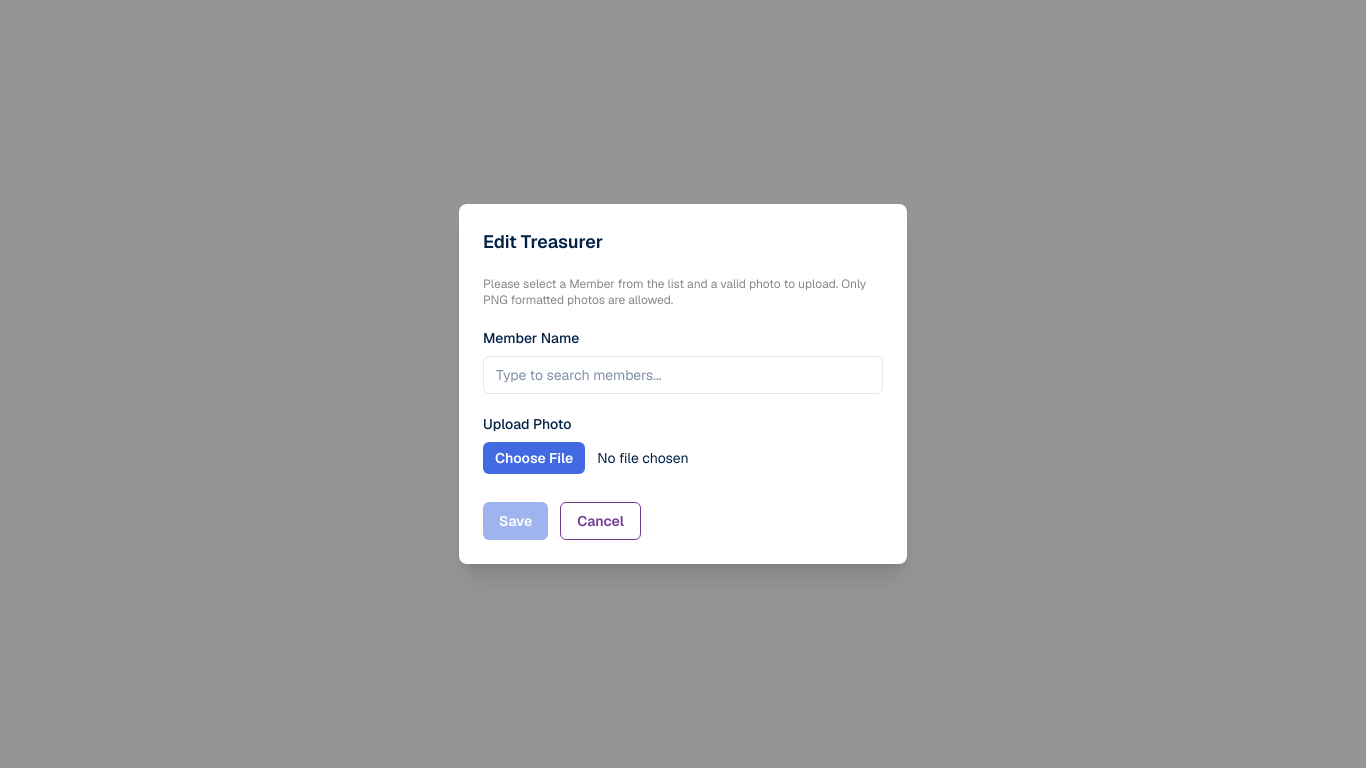
Test: OfficerEditModal › selects a member from the dropdown
Step 1. Focus the field with placeholder "Type to search members..." → (683, 375), box [483, 356, 883, 394]
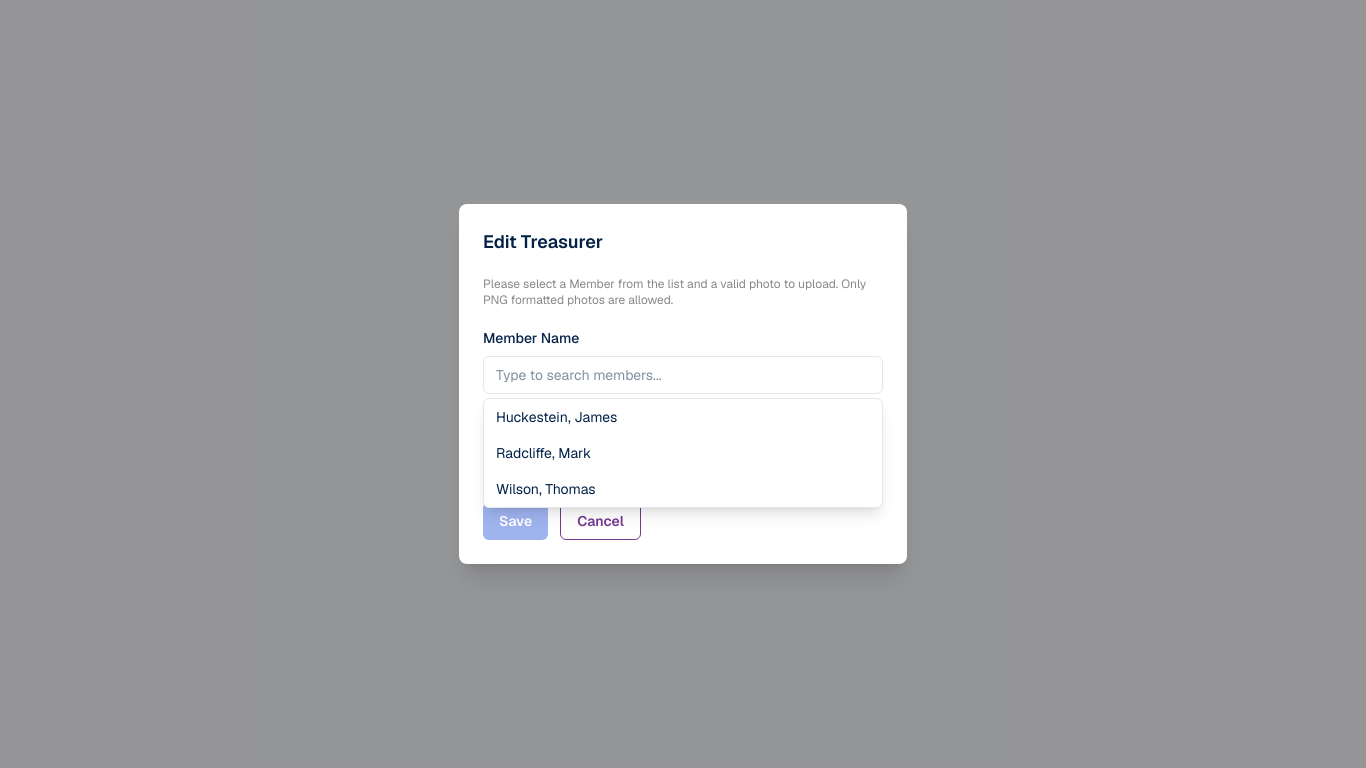
Check: the button "Wilson, Thomas" is shown
Step 2. Click the button "Wilson, Thomas" → (518, 489), box [484, 471, 882, 507]
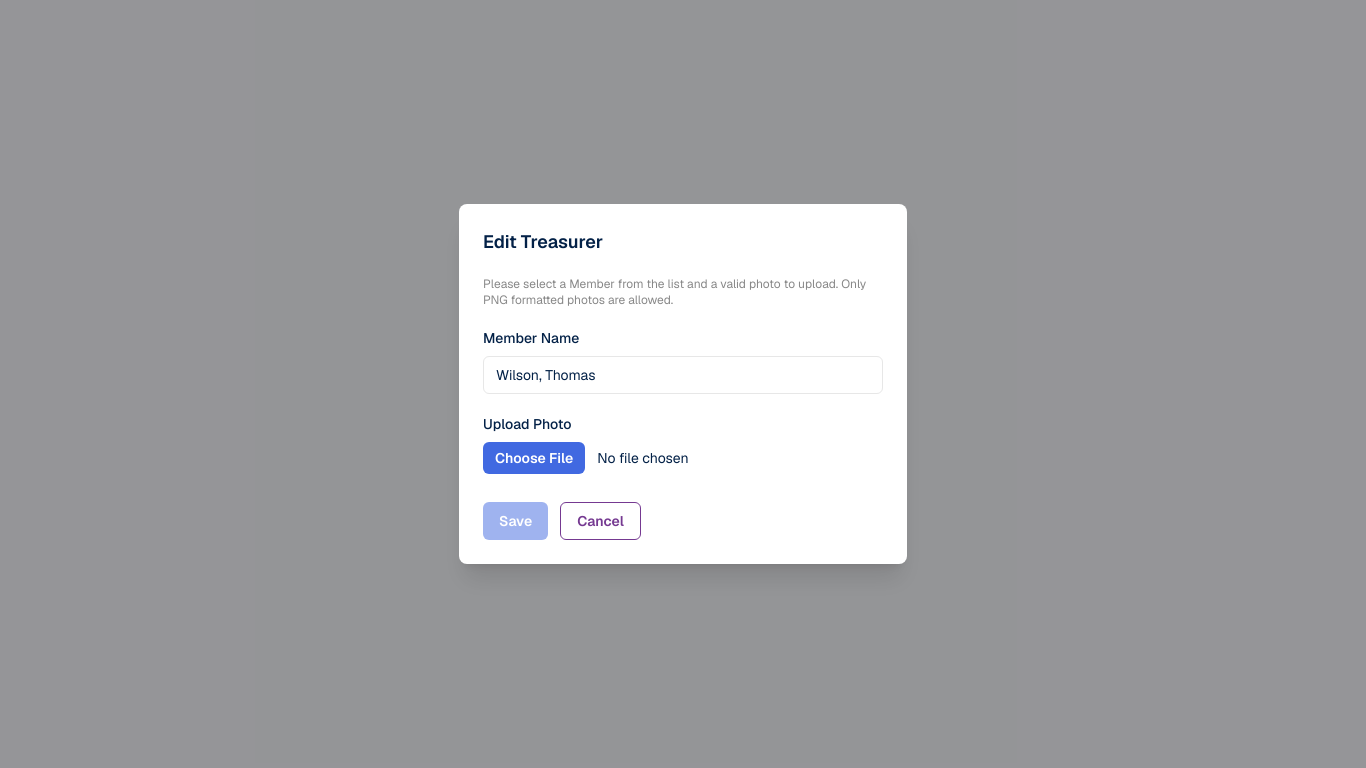
Check: the field with placeholder "Type to search members..." holds "Wilson, Thomas", box [483, 356, 883, 394]
